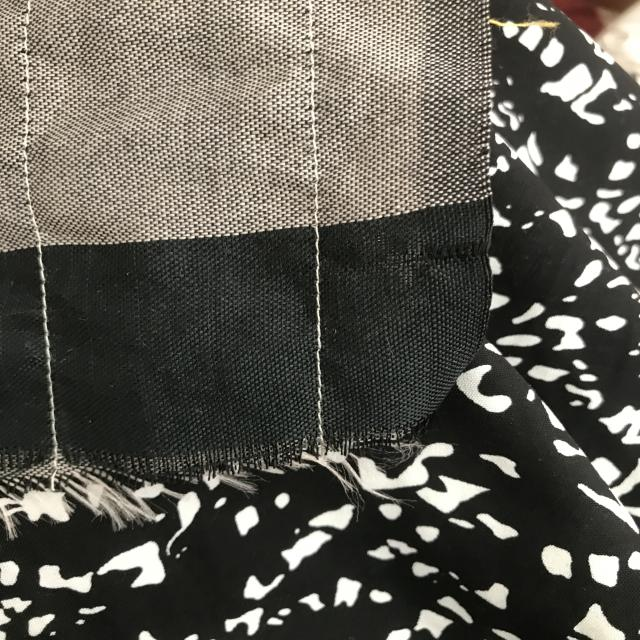good: (28, 259, 82, 432), (294, 247, 336, 419), (298, 79, 332, 226)
